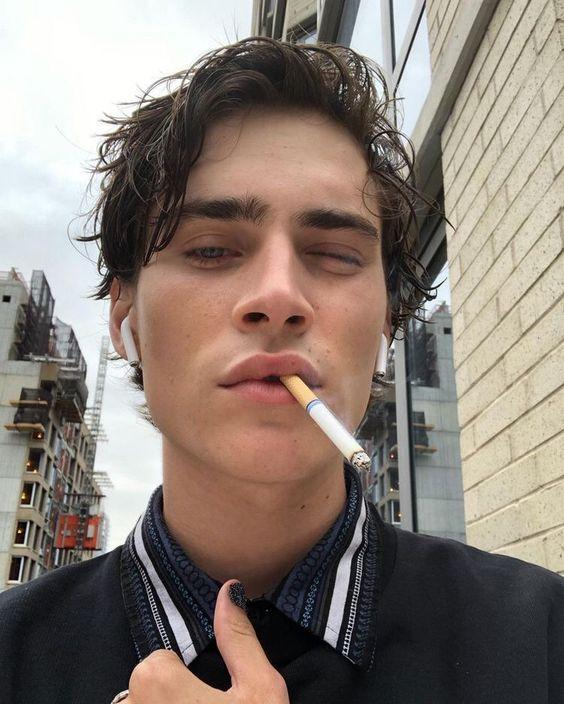cigarette: (279, 374, 371, 473)
